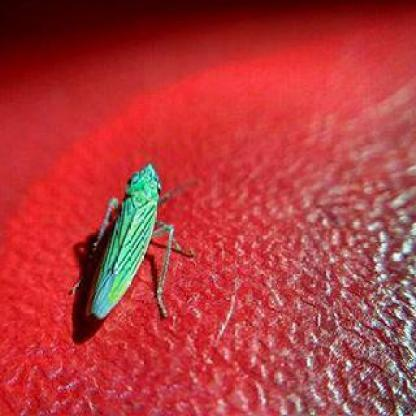green-leafhopper: (85, 160, 190, 323)
